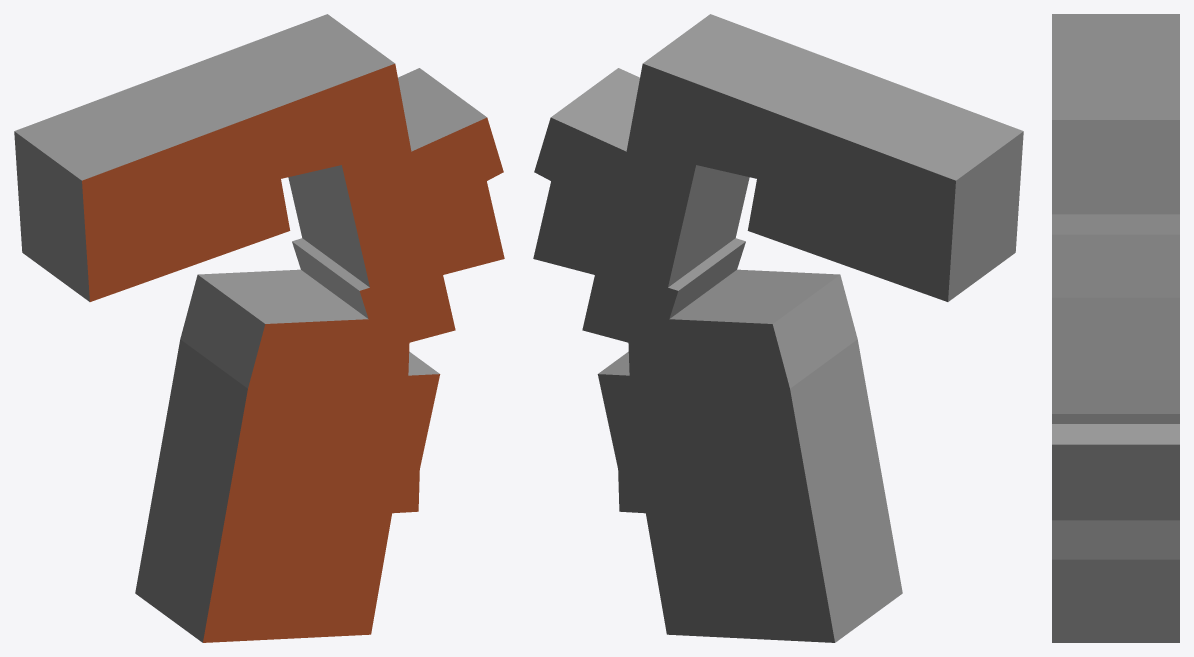
Rendered from construction_1235_assumed_A_Casa_h6m.obj.
3 views of the same model, side by side, from view 1: azimuth 30°, elevation 25°; view 2: azimuth 150°, elevation 25°; view 3: azimuth 270°, elevation 25° (orthographic). The views are drawn at different scales.
Visible parts, largest first — view 1: construction_1235_assumed_A_Casa; view 2: construction_1235_assumed_A_Casa; view 3: construction_1235_assumed_A_Casa.
Part boxes in pixels (bbox=[...]): construction_1235_assumed_A_Casa: bbox=[14, 14, 504, 642]; construction_1235_assumed_A_Casa: bbox=[533, 14, 1023, 642]; construction_1235_assumed_A_Casa: bbox=[1052, 14, 1179, 642].
Size of the model in its own units: 21.63 by 27.63 by 6.
